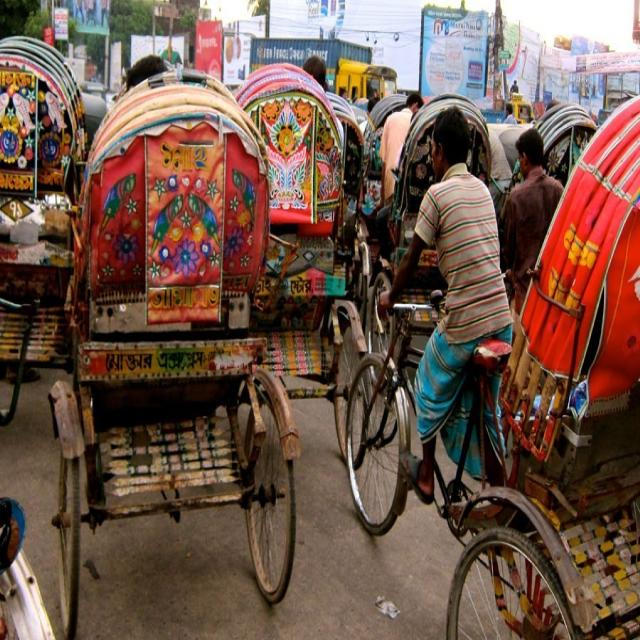Rickshaw: (353, 85, 640, 627), (51, 69, 301, 628)
